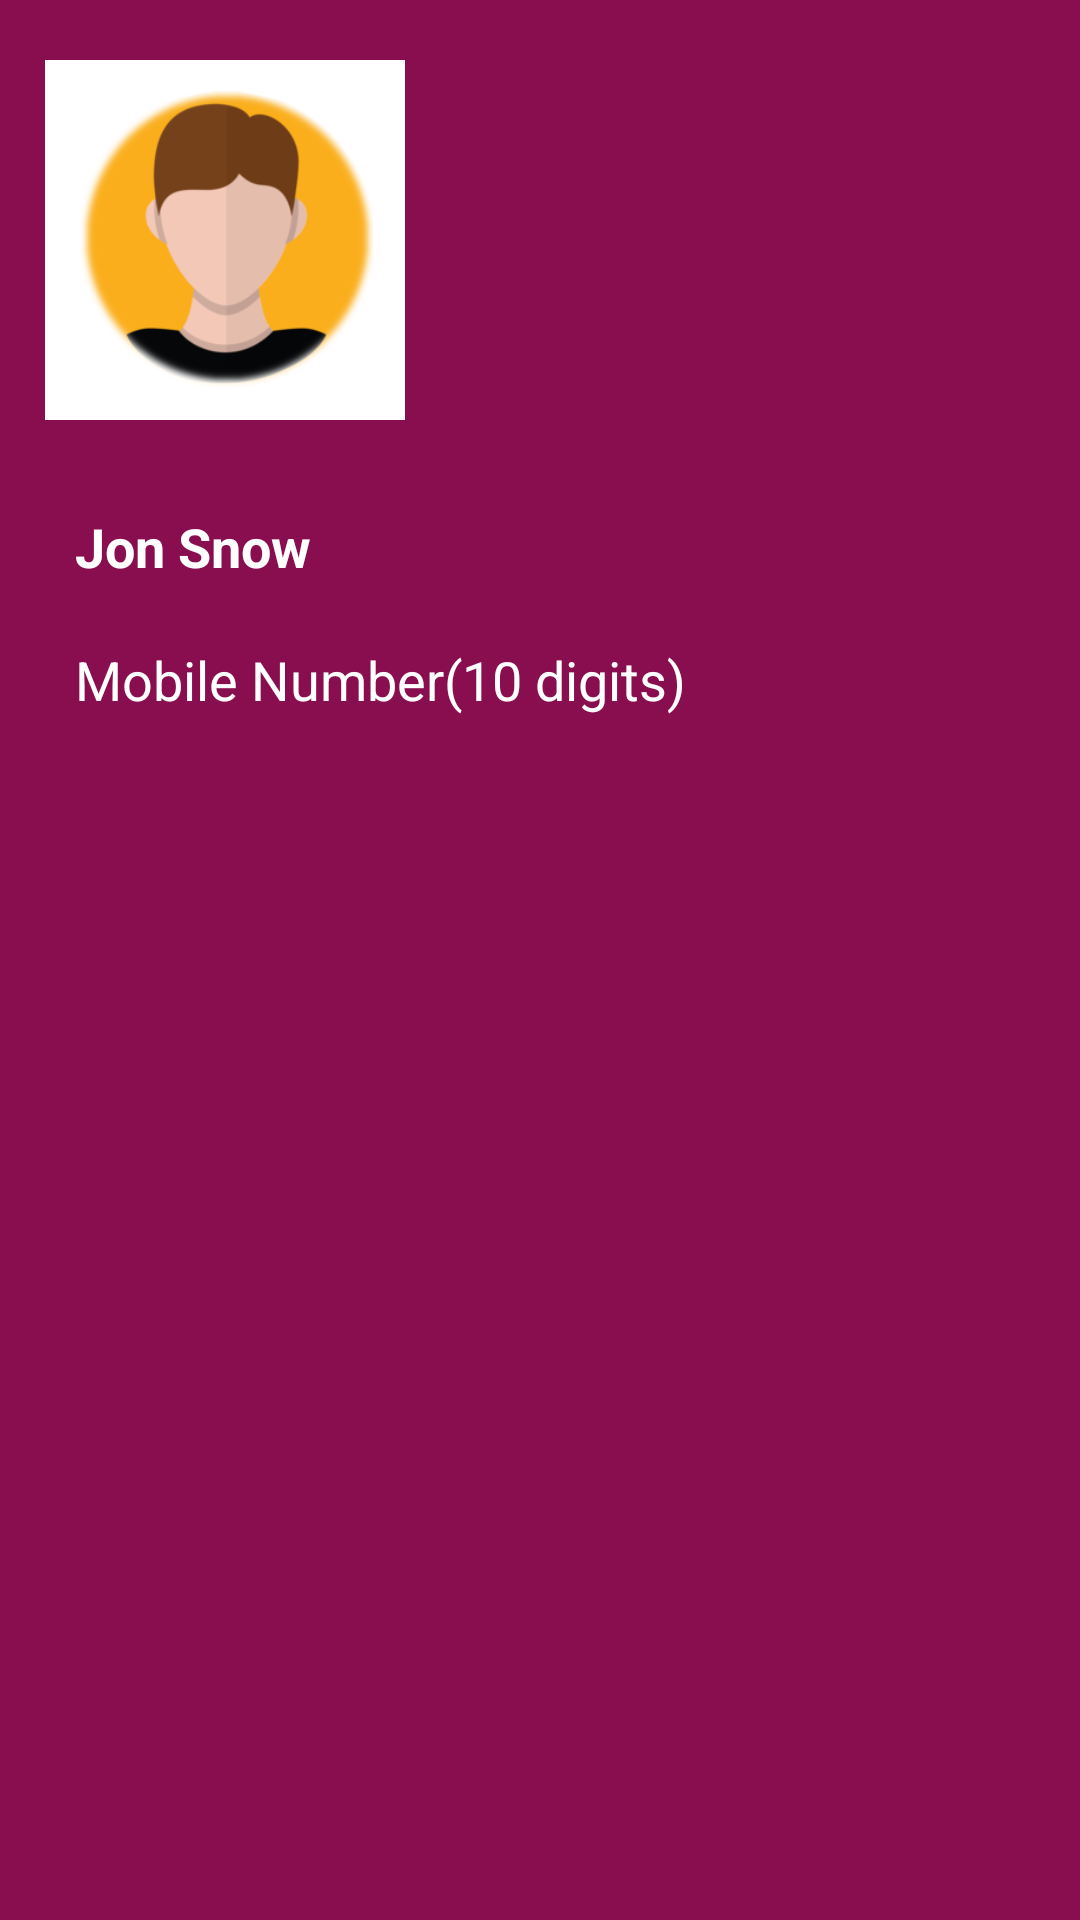

Where icons sit on this 1080w x 1920h app screen, as detection(x1, y1, x2, y2):
profile: detection(45, 60, 405, 420)
